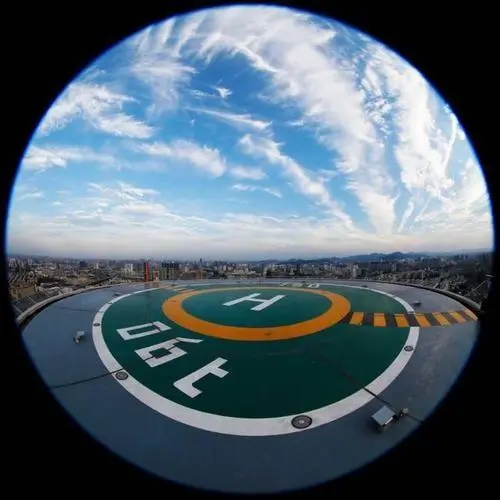Apron: (159, 283, 352, 342)
